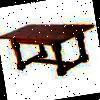Mesa: (0, 15, 99, 85)
